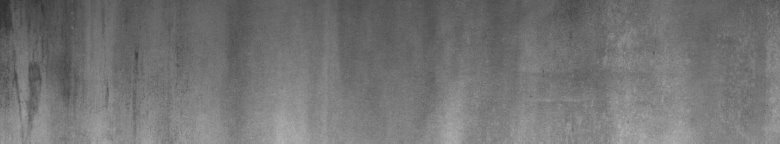ka: (4, 4, 140, 127)
